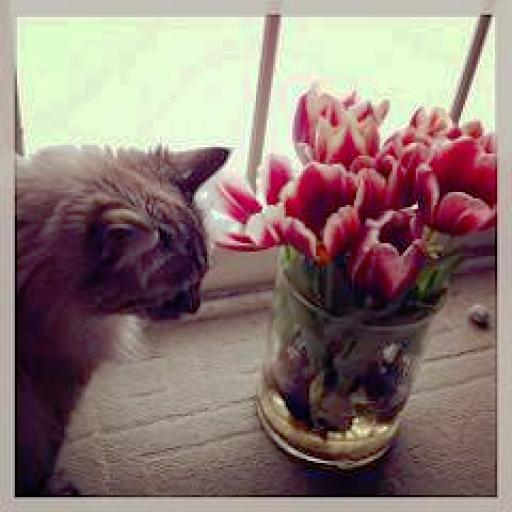tulip: (205, 154, 294, 250), (280, 158, 362, 262), (420, 134, 497, 239), (364, 201, 426, 290)
